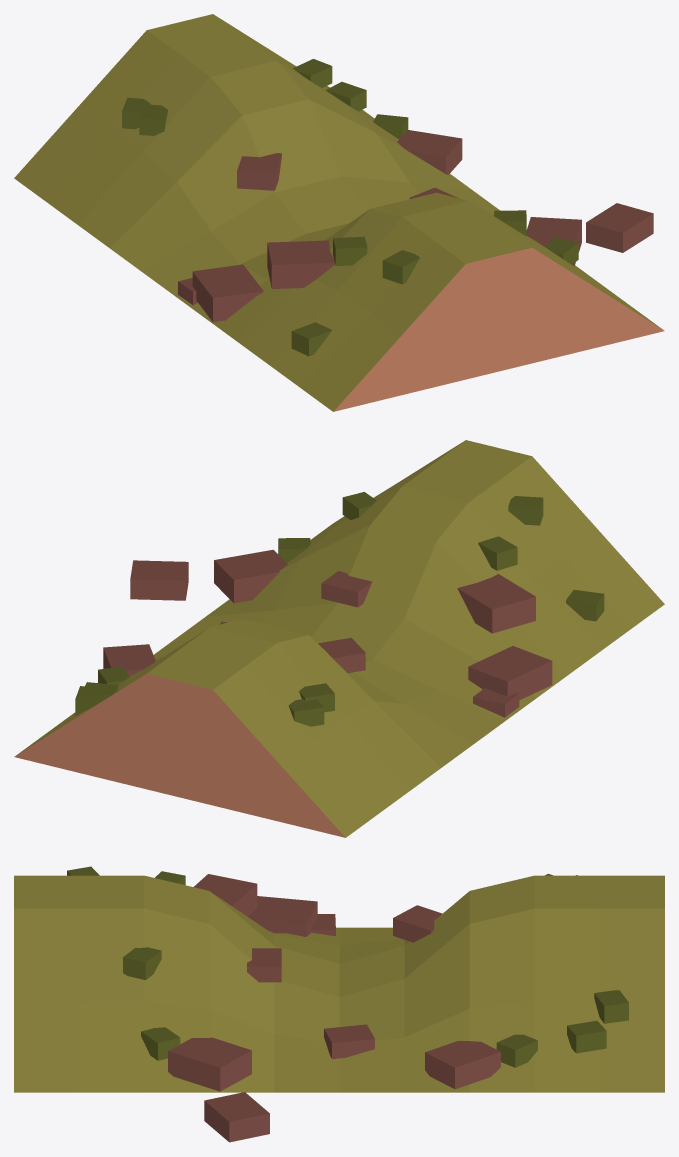
Rendered from SM_TaludDeposito_v4_Reventado_LOD0.fbx.
The picture shows the model from 3 angles, top to bottom: view 1: azimuth 30°, elevation 25°; view 2: azimuth 150°, elevation 25°; view 3: azimuth 270°, elevation 25°; orthographic projection.
Visible parts, largest first — view 1: SM_bloques.talud_deposito_v4_LOD0; view 2: SM_bloques.talud_deposito_v4_LOD0; view 3: SM_bloques.talud_deposito_v4_LOD0.
Boxes of the visible parts, x1,y1,x2,y2 form: SM_bloques.talud_deposito_v4_LOD0: (14,14,664,411); SM_bloques.talud_deposito_v4_LOD0: (14,440,664,837); SM_bloques.talud_deposito_v4_LOD0: (14,866,664,1142).
Size of the model in its own units: 7.78 by 2.05 by 10.
